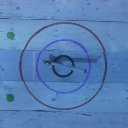Axe Tip: (49, 61, 60, 63)
